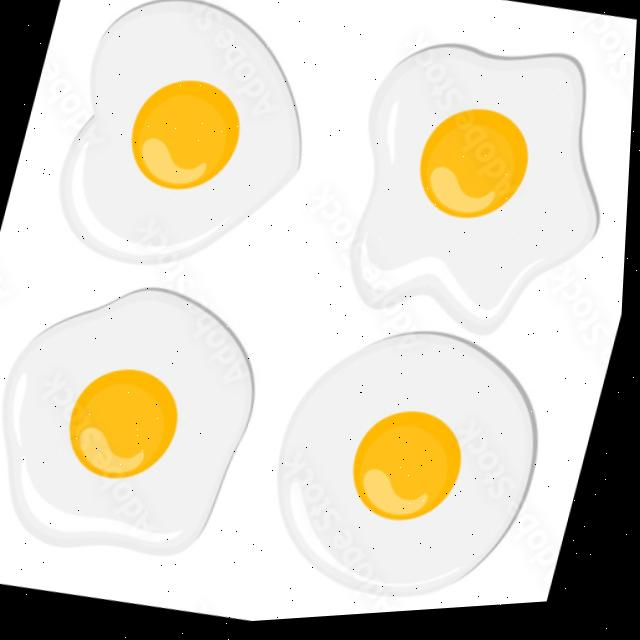Egg: (354, 49, 600, 340), (284, 337, 539, 601), (8, 290, 256, 556), (62, 0, 301, 265)
